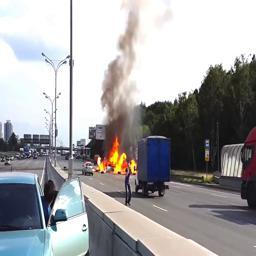fire: (95, 135, 138, 174)
